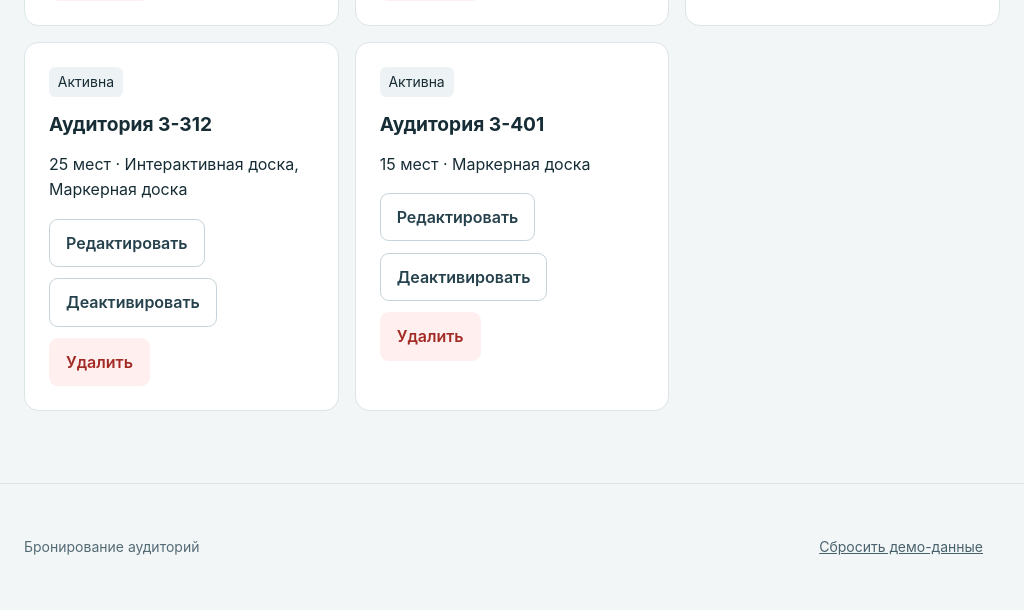
it: PART 2: администрирование › сбрасывает демо только после подтверждения и завершает сессию
This screenshot has width=1024, height=610.
(page scrolled)
Click the button "Сбросить демо-данные". click: (901, 547)
box: [802,524,1000,570]
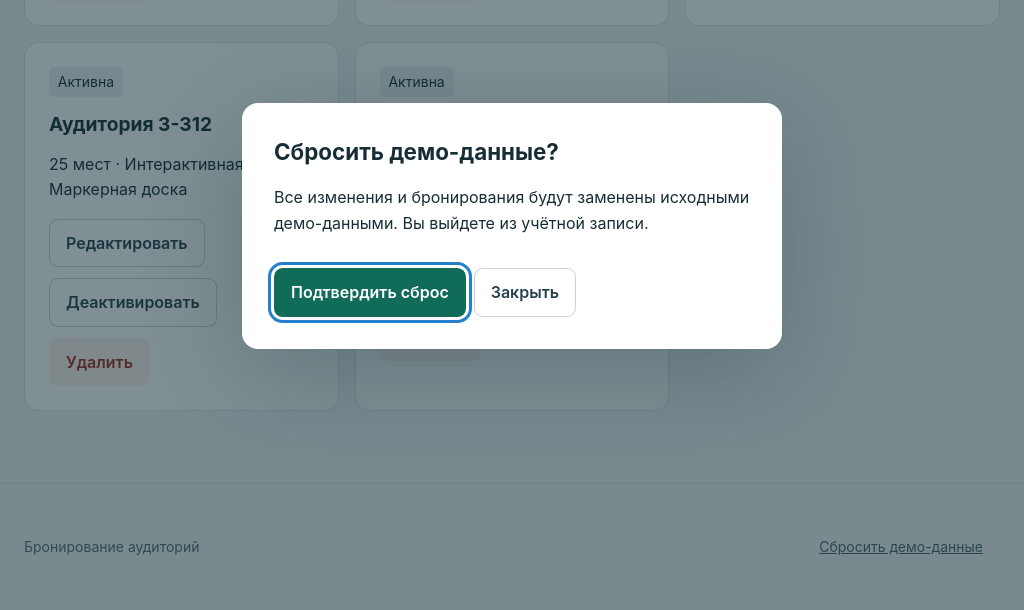
Click the button "Закрыть". click: (525, 292)
box: [474,268,576,317]
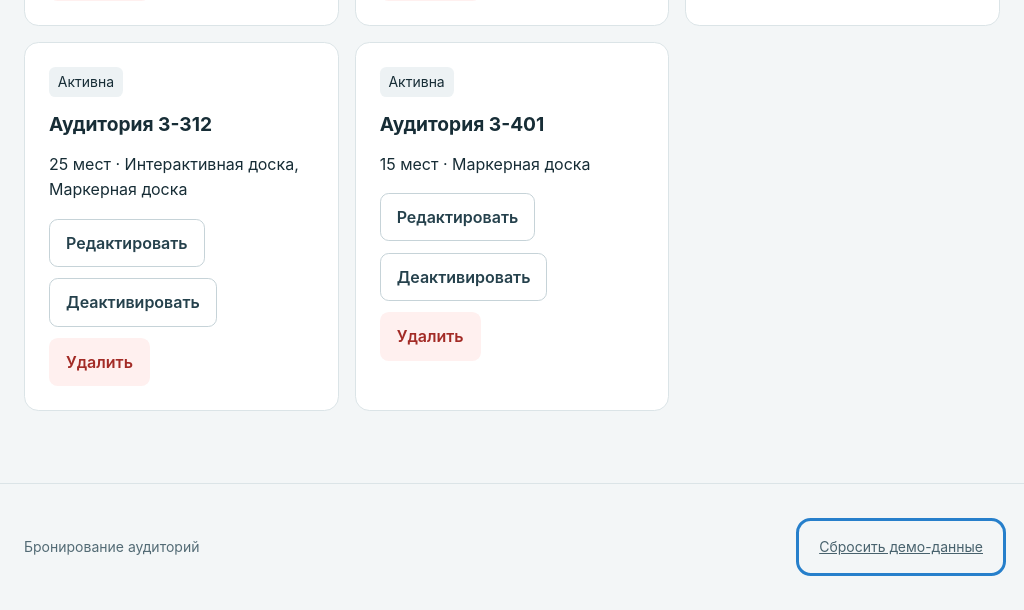
Click the button "Сбросить демо-данные". click: (901, 547)
box: [802,524,1000,570]
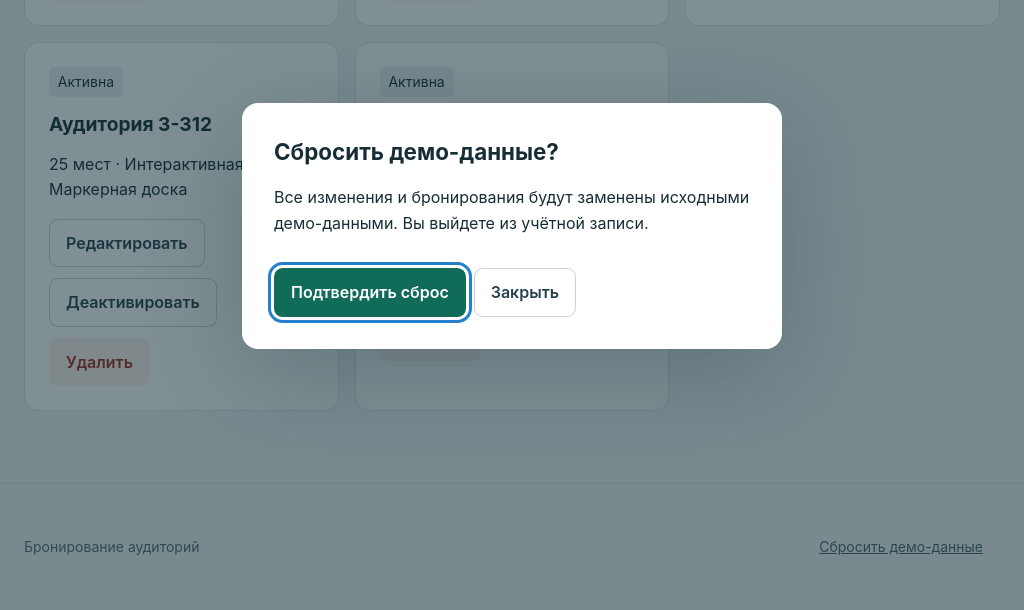
Click the button "Подтвердить сброс". click: (370, 292)
box: [274,268,466,317]
(page scrolled)
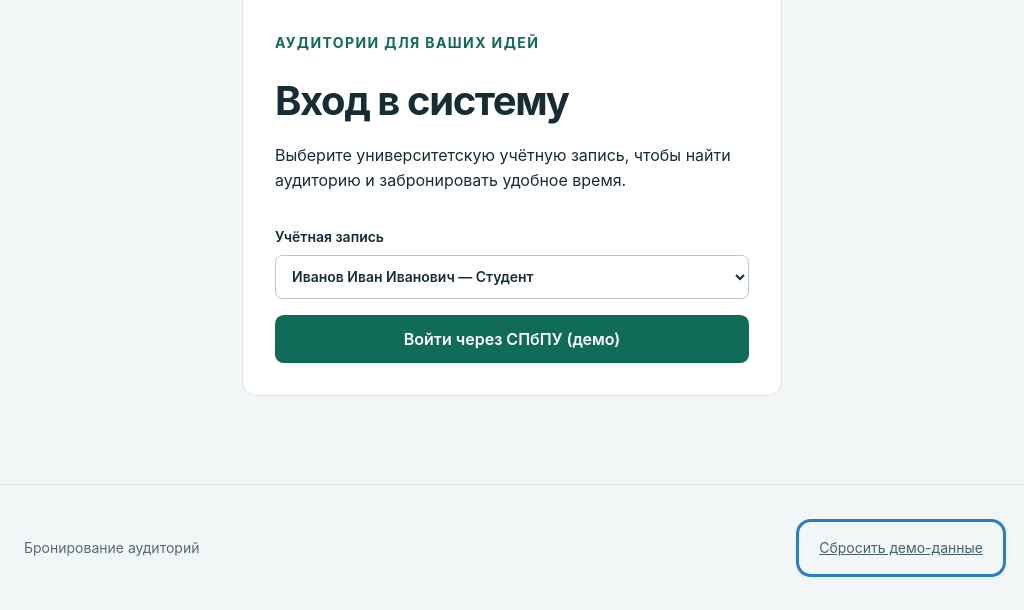
Result: the heading "Вход в систему" is shown at [275,76,568,125]
